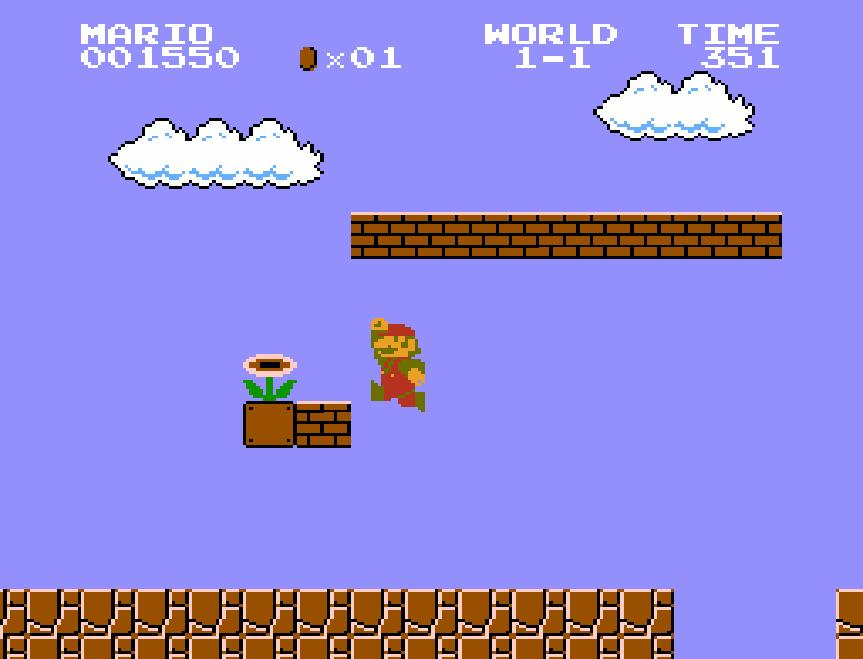big_mario: (368, 316, 426, 414)
